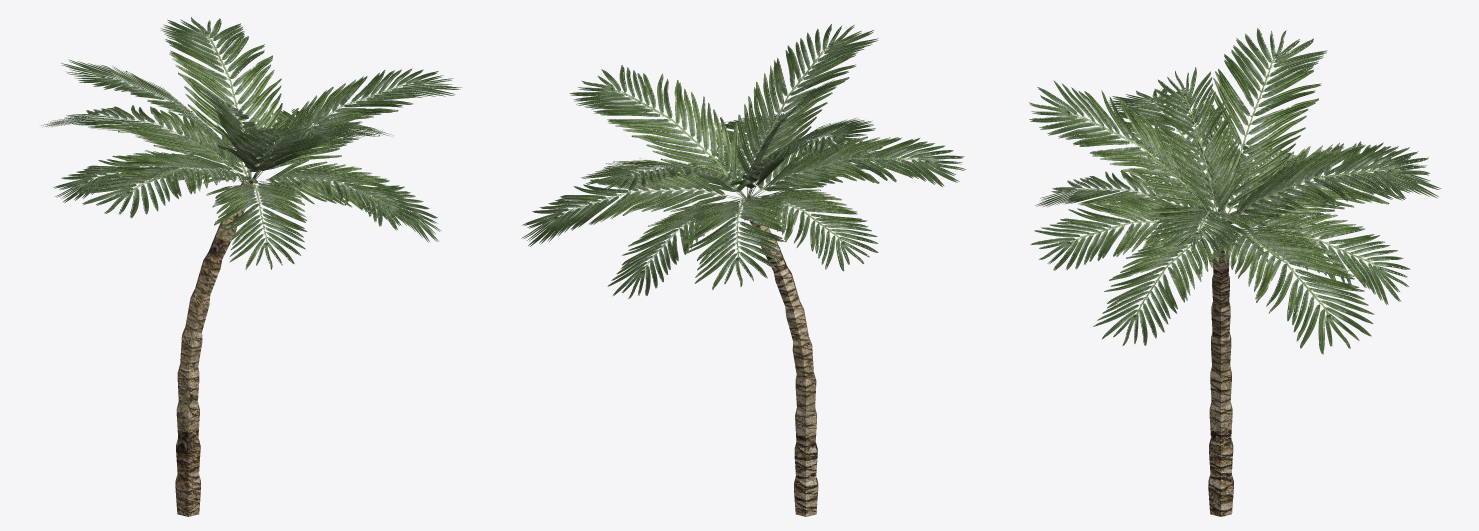
File: Palm_LP2.fbx
3 views of the same model, side by side, from view 1: azimuth 30°, elevation 25°; view 2: azimuth 150°, elevation 25°; view 3: azimuth 270°, elevation 25° (orthographic). The views are drawn at different scales.
Visible parts, largest first — view 1: pPlane28; view 2: pPlane28; view 3: pPlane28.
Boxes of the visible parts, bbox=[...] form: pPlane28: bbox=[41, 17, 461, 516]; pPlane28: bbox=[521, 24, 966, 516]; pPlane28: bbox=[1029, 28, 1441, 516].
Bounding box in the file's own units: 21.87 × 22.15 × 20.44.
Materials: 2 (2 with a texture image).
